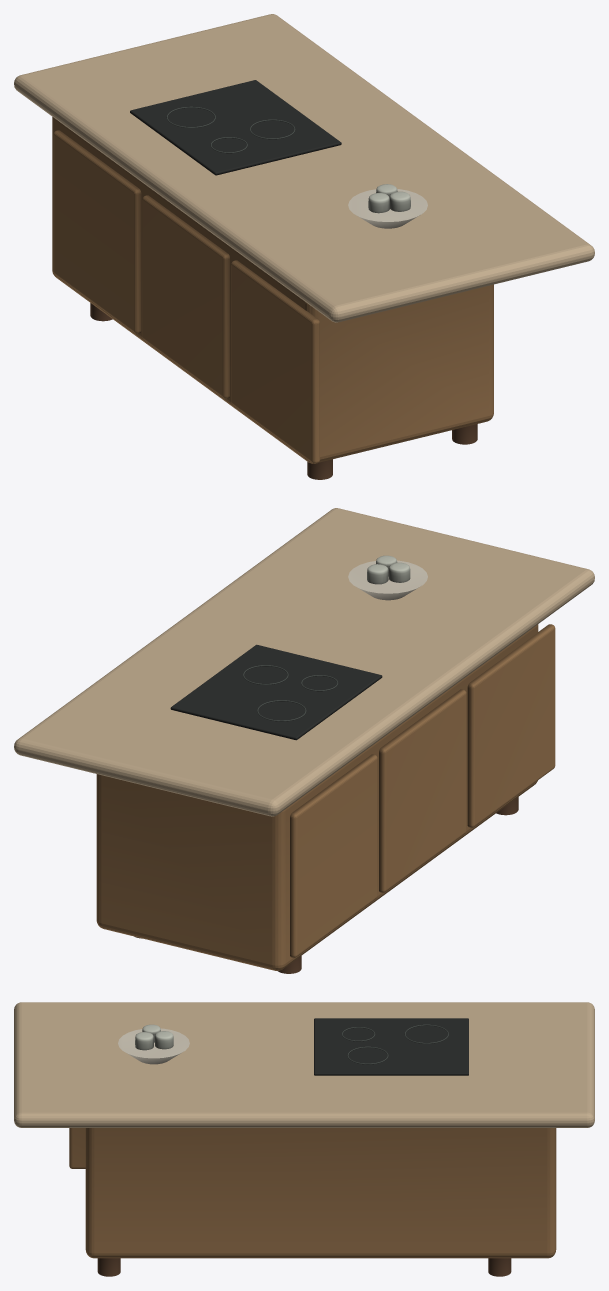
File: bench-island.glb
3 renders of one model, top to bottom at view 1: azimuth 30°, elevation 25°; view 2: azimuth 150°, elevation 25°; view 3: azimuth 270°, elevation 25°, orthographic. The views are drawn at different scales.
Parts seen in each view (by area): view 1: bench-island; view 2: bench-island; view 3: bench-island.
Part boxes in pixels (box(x1,y1,x2,y2)): bench-island: box(14, 14, 594, 479); bench-island: box(14, 508, 594, 973); bench-island: box(14, 1002, 594, 1276).
Size of the model in its own units: 1.17 by 1.02 by 2.47.
